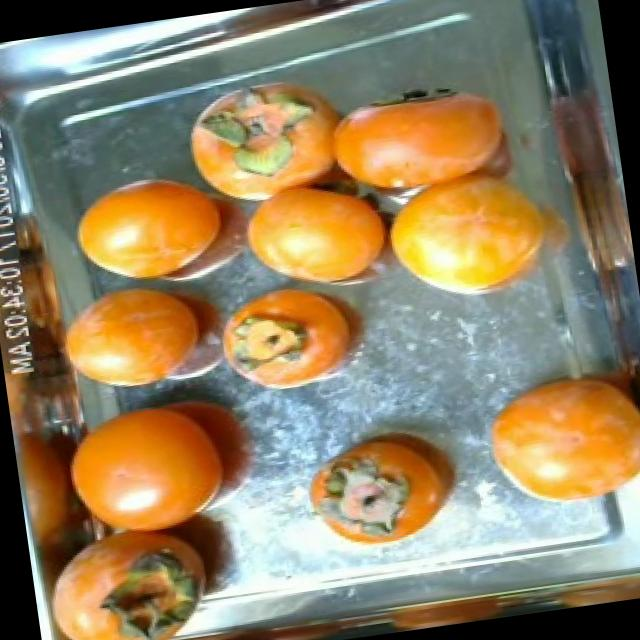Fruit: (362, 152, 584, 326), (55, 150, 268, 300), (462, 347, 640, 525), (288, 405, 480, 558), (198, 269, 394, 412), (224, 163, 416, 295)
